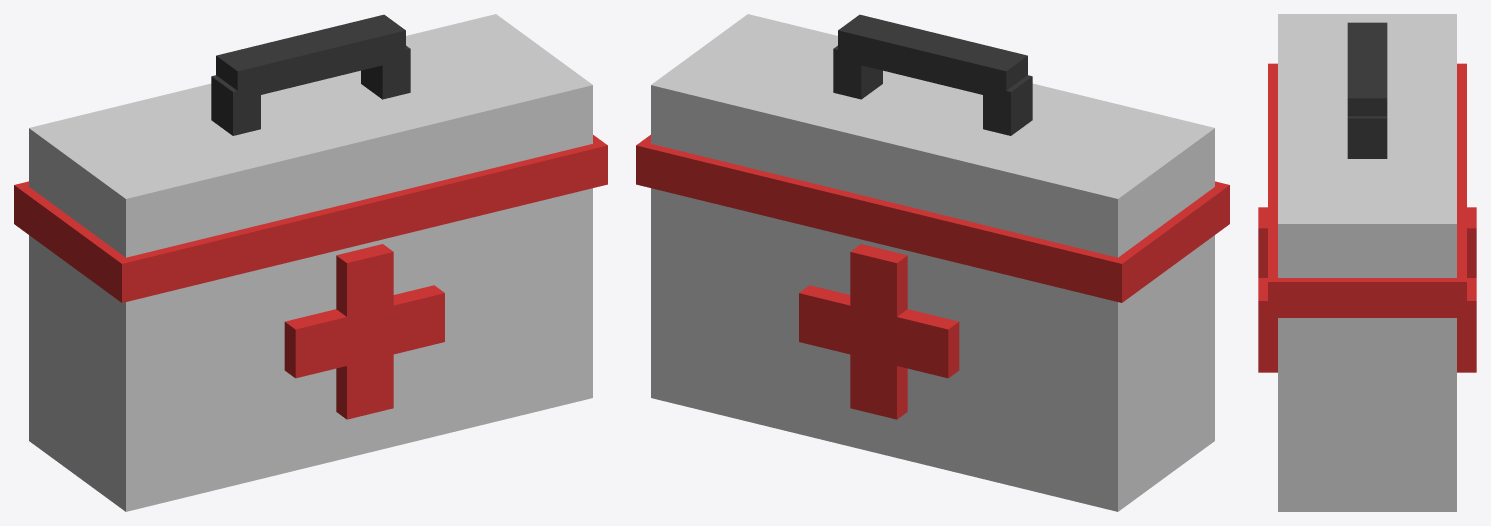
The model's file is Medkit.glb.
3 views of the same model, side by side, from view 1: azimuth 30°, elevation 25°; view 2: azimuth 150°, elevation 25°; view 3: azimuth 270°, elevation 25° (orthographic). The views are drawn at different scales.
Parts seen in each view (by area): view 1: Case, Rim, Cross, Handle; view 2: Case, Rim, Cross, Handle; view 3: Case, Rim, Handle, Cross.
Boxes of the visible parts, bbox=[...] form: Case: bbox=[29, 14, 592, 511]; Rim: bbox=[14, 135, 607, 302]; Cross: bbox=[284, 244, 444, 419]; Handle: bbox=[211, 14, 410, 135]; Case: bbox=[651, 14, 1214, 511]; Rim: bbox=[636, 135, 1229, 302]; Cross: bbox=[799, 244, 959, 419]; Handle: bbox=[833, 14, 1032, 135]; Case: bbox=[1278, 14, 1456, 511]; Rim: bbox=[1268, 63, 1466, 317]; Handle: bbox=[1347, 22, 1387, 158]; Cross: bbox=[1258, 207, 1476, 372].
Size of the model in its own units: 0.52 by 0.385 by 0.22.
